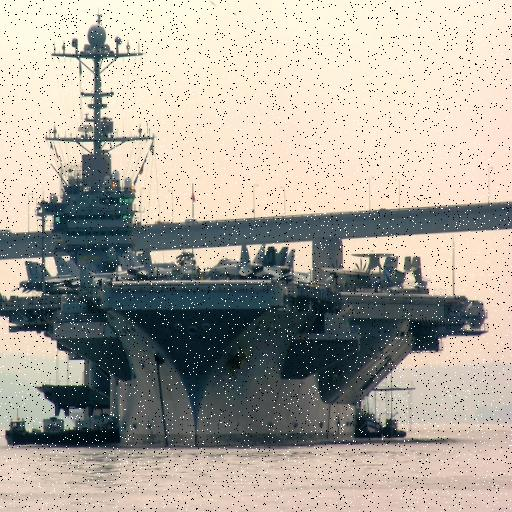Portanaves: (1, 12, 492, 449)
